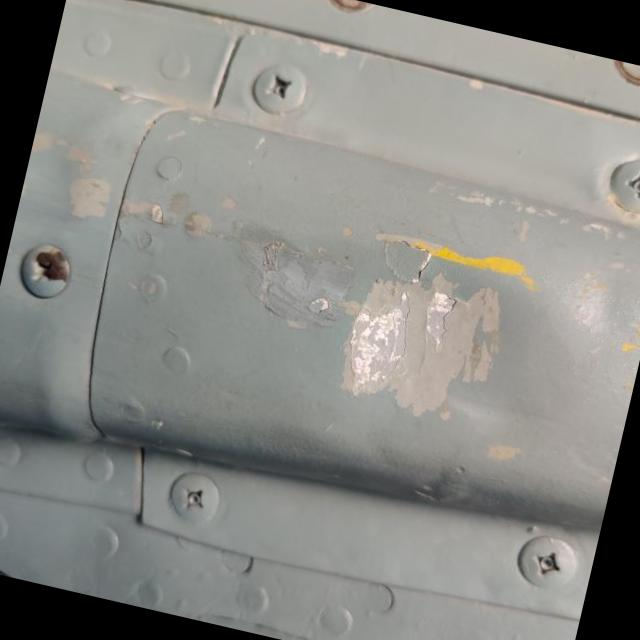Paint-off: (339, 237, 504, 421)
